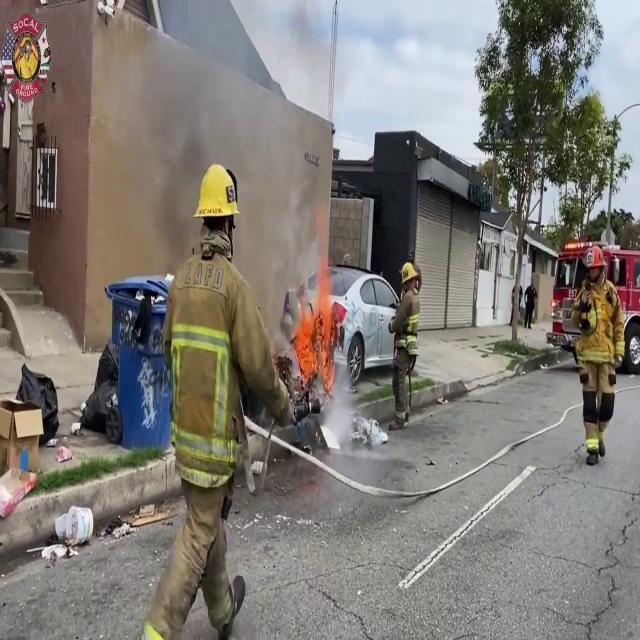Fire: (292, 251, 338, 394)
Smoke: (84, 1, 320, 266)
